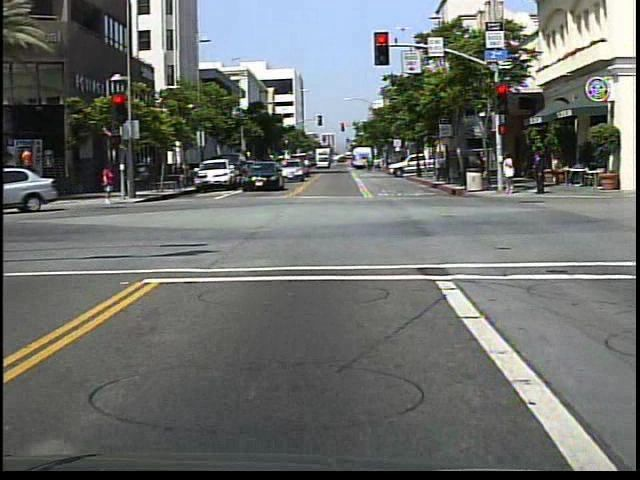person: (529, 148, 549, 196), (101, 163, 119, 209), (502, 150, 518, 200)
